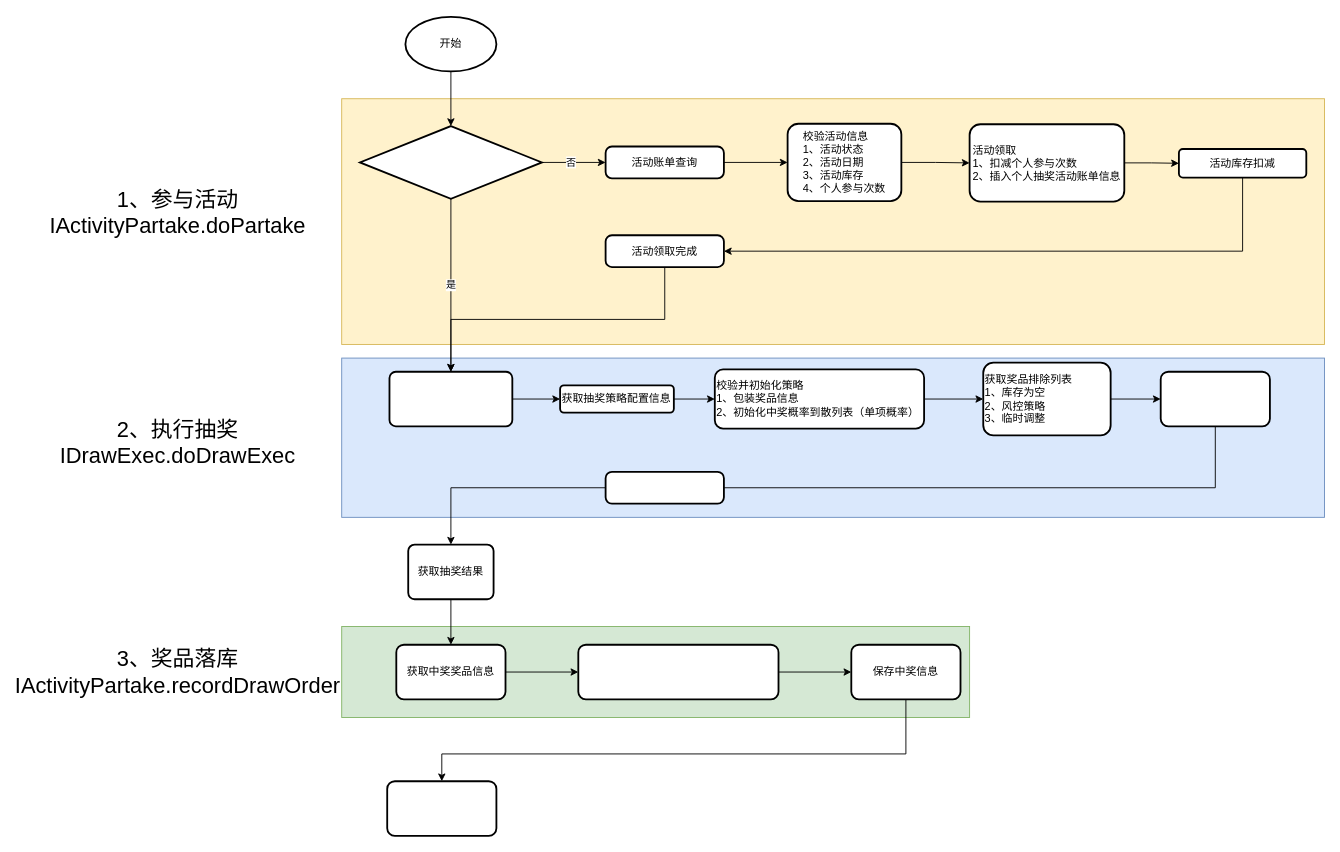
Some shapes in this 1340 by 852 pixel diagram are drawn without their labels. Each missing label, with the centre of its shape:
TODO MQ: [441,808]
执行抽奖 1、判断抽奖结果 2、扣减奖品库存: [1214,398]
抽奖完成: [664,487]
查看是否存在未执行的抽奖单: [450,162]
获取抽奖活动账单信息 1、strategyId 策略ID 2、takeId 账单ID: [450,398]
锁定抽奖活动账单,修改 state 为 1 已使用: [678,671]
